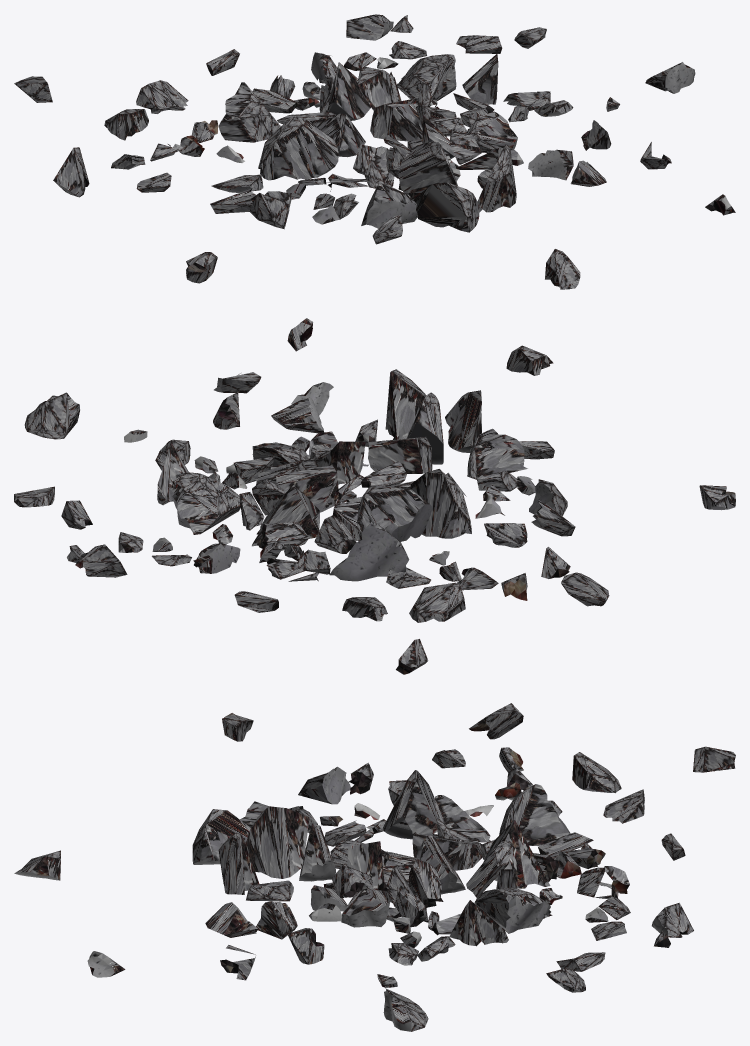
File: vaso-present.glb
The picture shows the model from 3 angles, top to bottom: view 1: azimuth 30°, elevation 25°; view 2: azimuth 150°, elevation 25°; view 3: azimuth 270°, elevation 25°; orthographic projection. The views are drawn at different scales.
Parts seen in each view (by area): view 1: Polygonal Vase Photogrametry_cell.001; view 2: Polygonal Vase Photogrametry_cell.001; view 3: Polygonal Vase Photogrametry_cell.001.
Boxes of the visible parts, box(x1,y1,x2,y2) form: Polygonal Vase Photogrametry_cell.001: box(14, 14, 735, 289); Polygonal Vase Photogrametry_cell.001: box(14, 318, 735, 674); Polygonal Vase Photogrametry_cell.001: box(14, 703, 735, 1031).
Bounding box in the file's own units: 0.6423 × 0.0611 × 0.641.
Materials: 1 (1 with a texture image).
